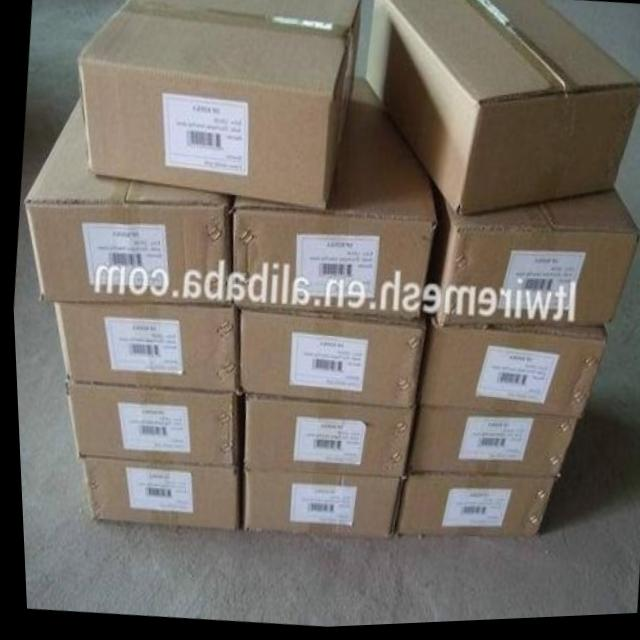box: (77, 0, 362, 213), (364, 0, 640, 217), (232, 79, 436, 327), (23, 92, 233, 305), (415, 187, 634, 329), (414, 323, 601, 426), (232, 313, 426, 411), (49, 302, 242, 398), (62, 380, 234, 469), (239, 399, 411, 476), (403, 411, 572, 483), (70, 459, 239, 531), (237, 474, 404, 538), (389, 477, 549, 541)
